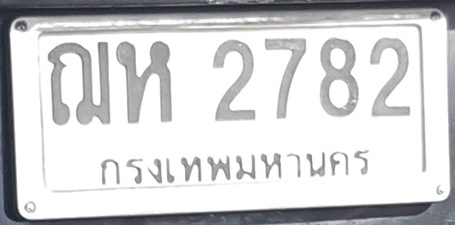txt09: (45, 39, 113, 127)
txt36: (114, 39, 175, 125)
